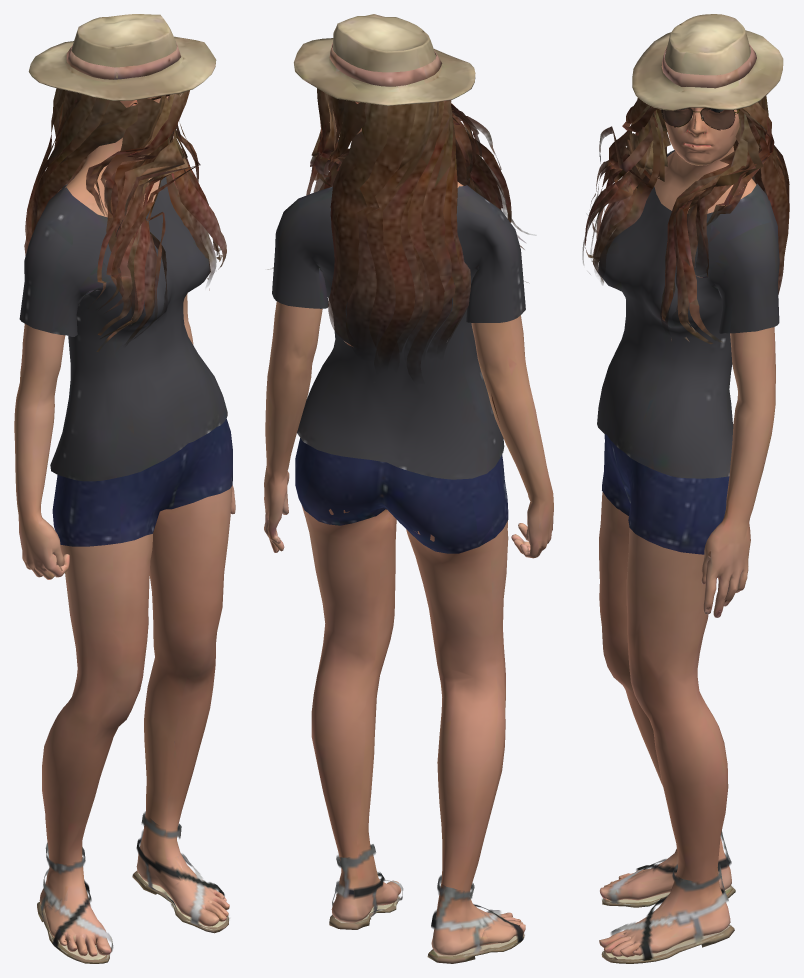
The picture shows the model from 3 angles, left to right: view 1: azimuth 30°, elevation 25°; view 2: azimuth 150°, elevation 25°; view 3: azimuth 270°, elevation 25°; orthographic projection. The views are drawn at different scales.
Parts seen in each view (by area): view 1: p02133; view 2: p02133; view 3: p02133.
Boxes of the visible parts, x1=… form: p02133: x1=14, y1=14, x2=235, y2=963; p02133: x1=264, y1=14, x2=553, y2=963; p02133: x1=582, y1=14, x2=789, y2=963.
Bounding box in the file's own units: 0.4764 × 1.66 × 0.3432.
1 material, 1 textured.
